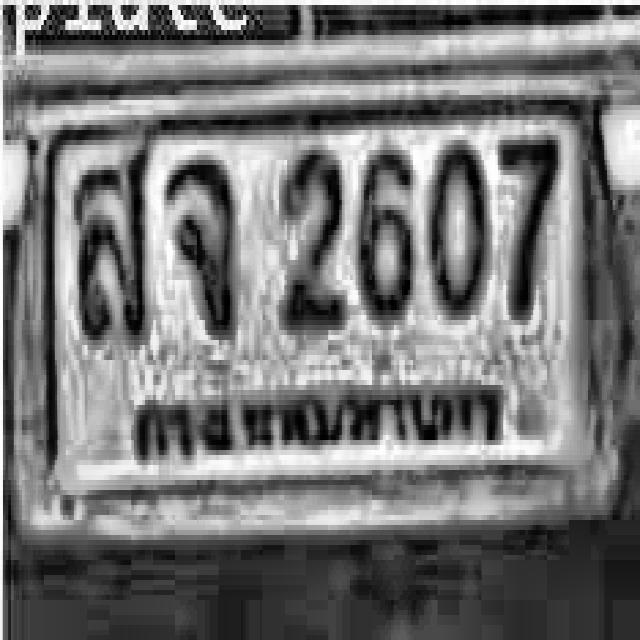license-plate: (12, 92, 634, 550)
